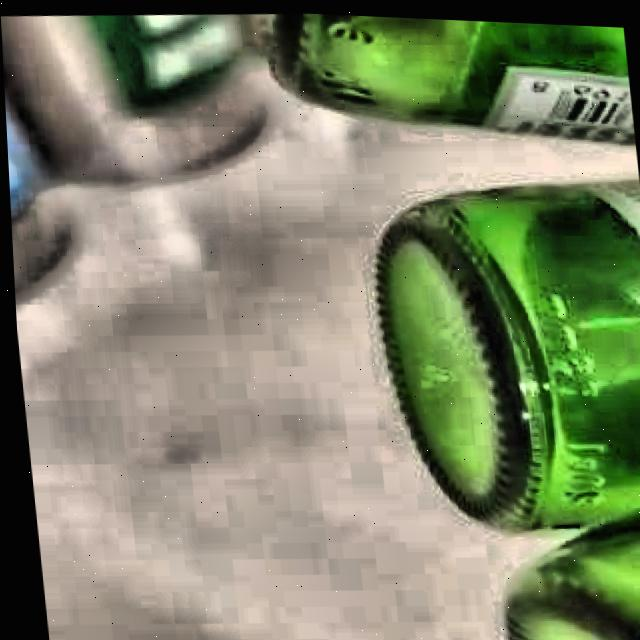glass: (374, 173, 640, 640), (374, 175, 640, 640)
